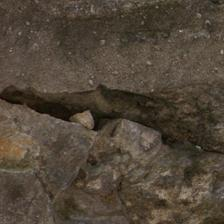Crack: (7, 79, 222, 157)
